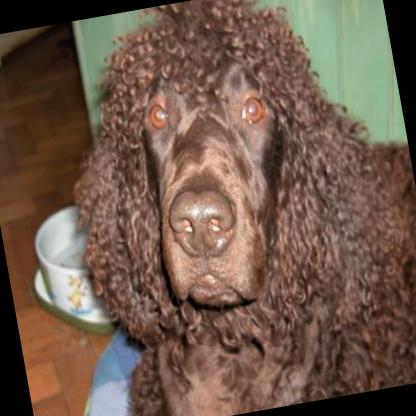Irish_water_spaniel: (37, 0, 416, 416)
